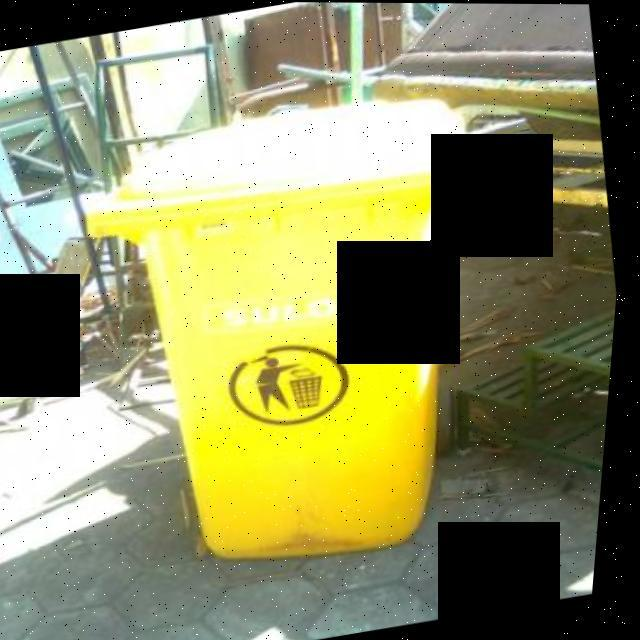bin: (58, 74, 568, 619)
